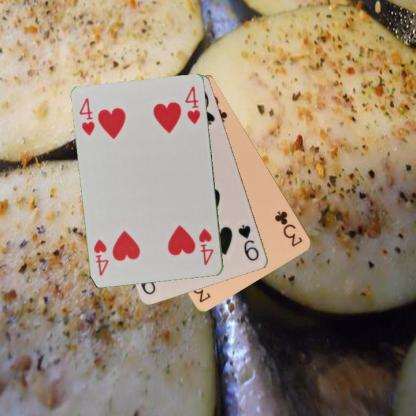3c: (272, 208, 305, 248)
4h: (77, 95, 96, 137), (197, 226, 216, 267)
9s: (236, 222, 260, 262)
